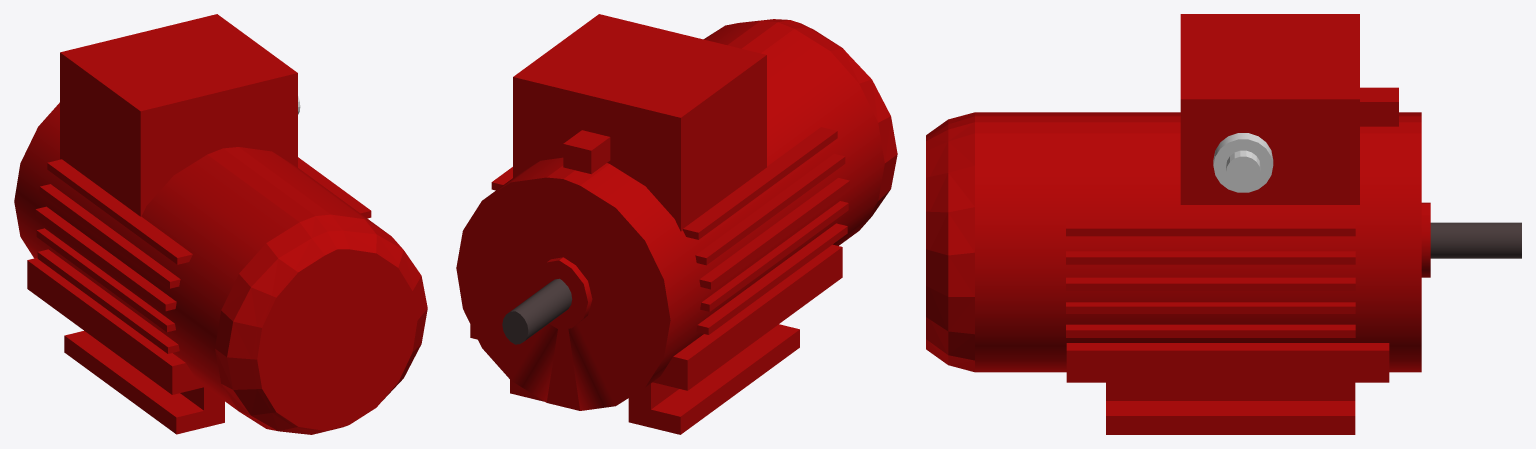
Rendered from moteur.fbx.
3 renders of one model, left to right at view 1: azimuth 30°, elevation 25°; view 2: azimuth 150°, elevation 25°; view 3: azimuth 270°, elevation 25°, orthographic. The views are drawn at different scales.
Visible parts, largest first — view 1: Cylinder001; view 2: Cylinder001; view 3: Cylinder001.
Part boxes in pixels (left/top/right/bottom): Cylinder001: left=14, top=14, right=427, bottom=434; Cylinder001: left=456, top=14, right=897, bottom=434; Cylinder001: left=926, top=14, right=1521, bottom=434.
Bounding box in the file's own units: 191 × 251 × 407.
